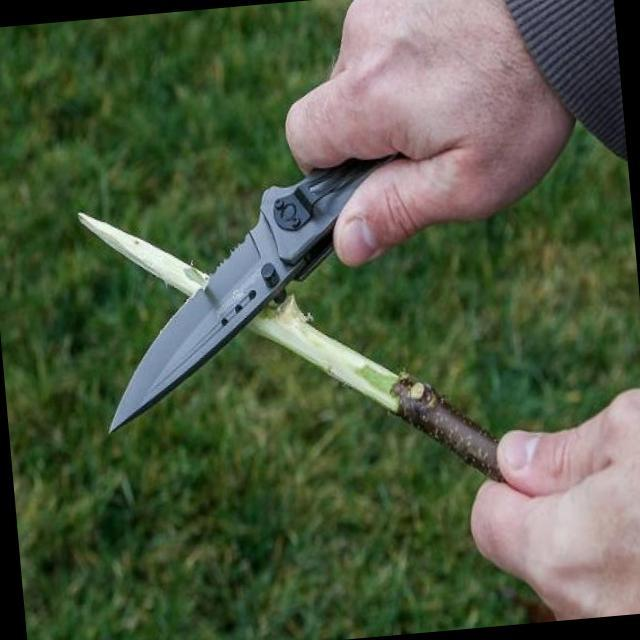Knife: (61, 52, 448, 454)
